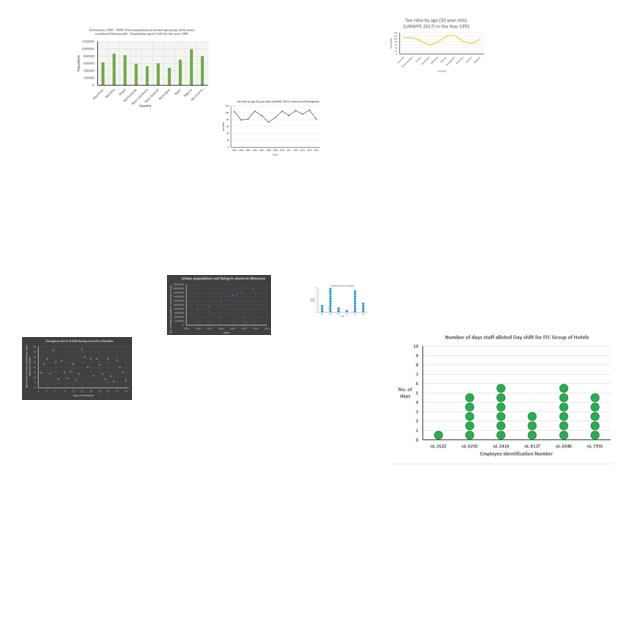Graph: (392, 329, 614, 465), (72, 26, 210, 108), (22, 337, 132, 400), (167, 275, 271, 335), (220, 97, 322, 158), (389, 16, 486, 73), (308, 283, 369, 319)
